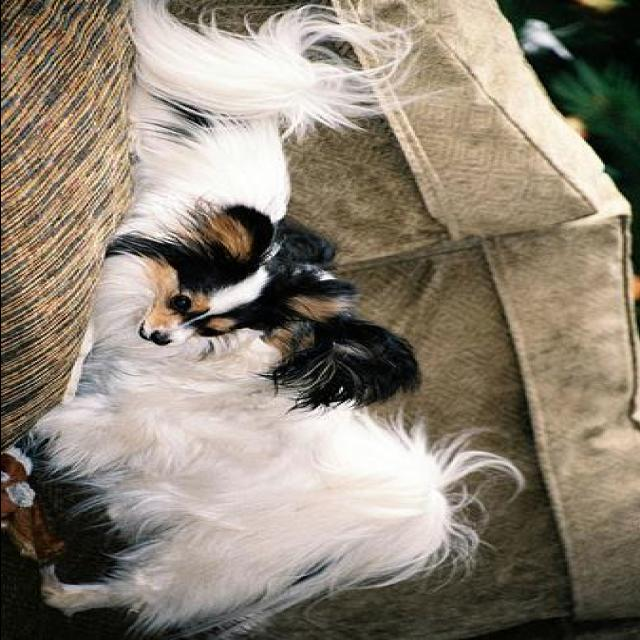papillon: (36, 264, 532, 638), (103, 2, 420, 408)
